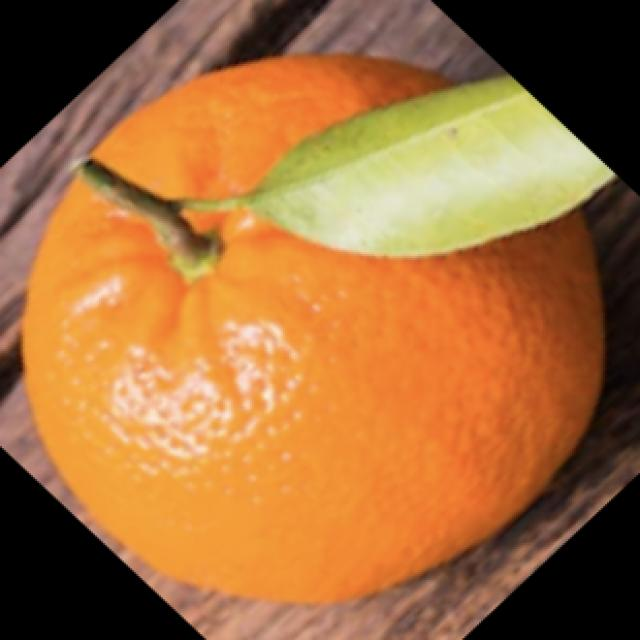fresh: (27, 53, 610, 619)
